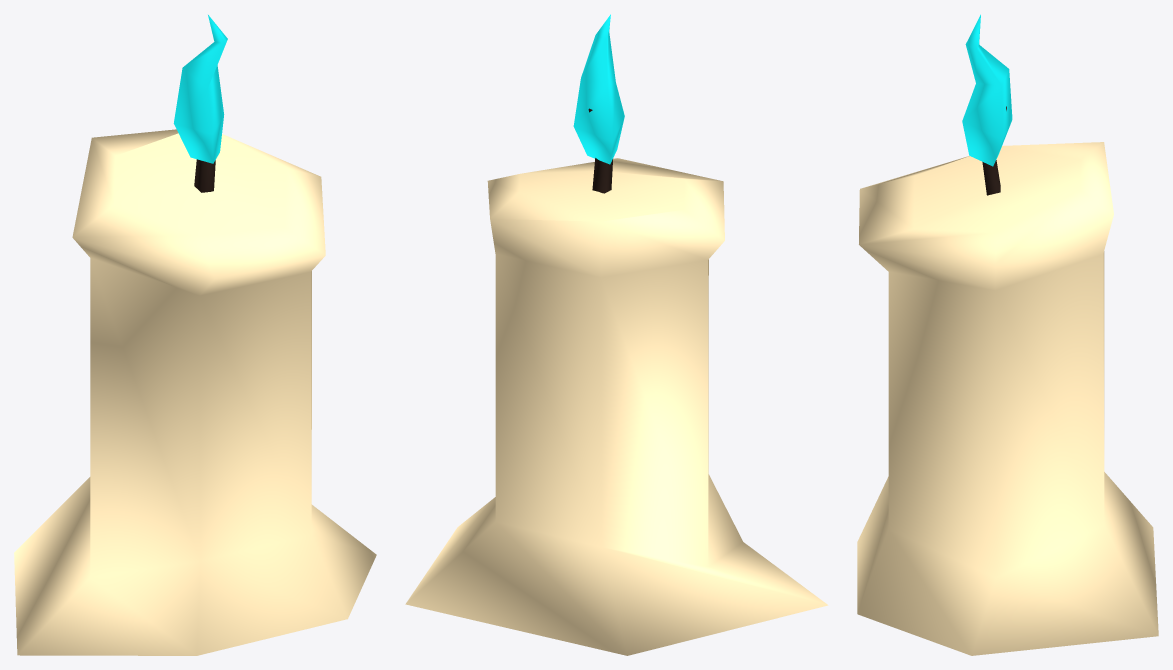
Rendered from CandleShapeD.019.glb.
3 views of the same model, side by side, from view 1: azimuth 30°, elevation 25°; view 2: azimuth 150°, elevation 25°; view 3: azimuth 270°, elevation 25° (orthographic). The views are drawn at different scales.
Parts seen in each view (by area): view 1: CandleShapeD.019; view 2: CandleShapeD.019; view 3: CandleShapeD.019.
Part boxes in pixels (box(x1,y1,x2,y2)): CandleShapeD.019: box(14, 15, 376, 655); CandleShapeD.019: box(405, 14, 828, 655); CandleShapeD.019: box(857, 14, 1158, 655).
Size of the model in its own units: 0.1822 by 0.2697 by 0.1308.
2 materials, 2 textured.
